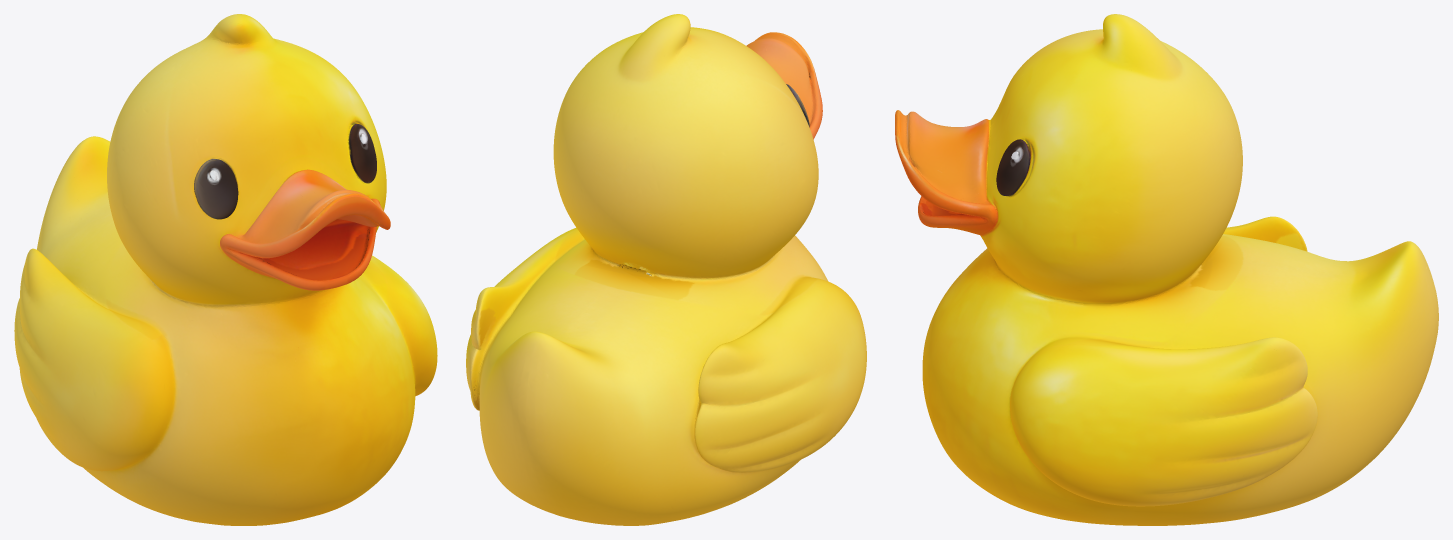
The model's file is base_basic_shaded.glb.
3 views of the same model, side by side, from view 1: azimuth 30°, elevation 25°; view 2: azimuth 150°, elevation 25°; view 3: azimuth 270°, elevation 25° (orthographic). The views are drawn at different scales.
Visible parts, largest first — view 1: model; view 2: model; view 3: model.
Boxes of the visible parts, x1=… form: model: x1=14, y1=14, x2=437, y2=525; model: x1=466, y1=14, x2=866, y2=525; model: x1=895, y1=14, x2=1438, y2=525.
Size of the model in its own units: 1.42 by 1.85 by 1.91.
1 material, 1 textured.
